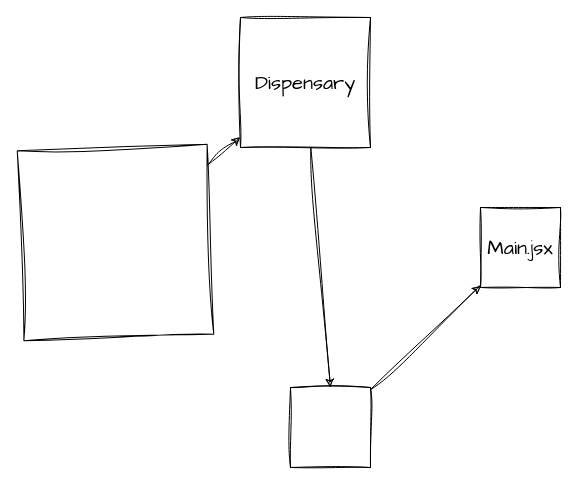
This 579x485 diagram has some shape labels left out. The centre of each missing label's shape, as x and y in pixels:
"App.jsx" belongs at pixel 330 427.
"itemData.js" belongs at pixel 115 242.
